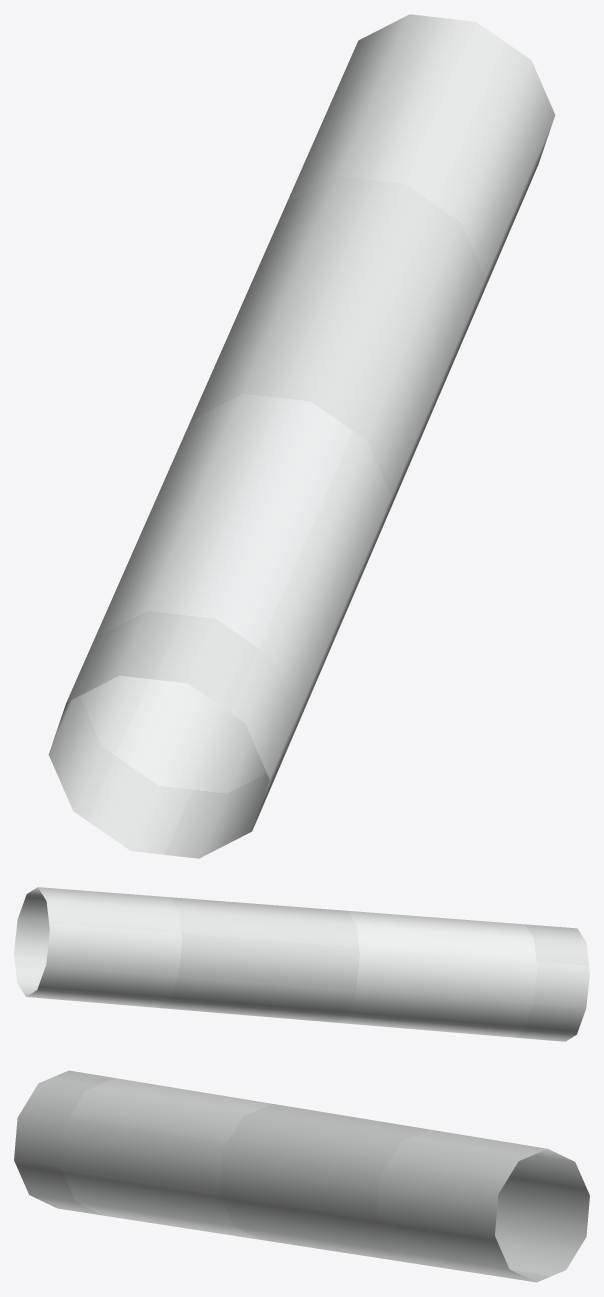
File: nycsignalarm_diagonal12_c14.obj
3 views of the same model, one above another, from view 1: azimuth 30°, elevation 25°; view 2: azimuth 150°, elevation 25°; view 3: azimuth 270°, elevation 25° (orthographic). The views are drawn at different scales.
Parts seen in each view (by area): view 1: nycsignalarm_diagonal12_c14; view 2: nycsignalarm_diagonal12_c14; view 3: nycsignalarm_diagonal12_c14.
Part boxes in pixels (bbox=[...]): nycsignalarm_diagonal12_c14: bbox=[48, 14, 555, 858]; nycsignalarm_diagonal12_c14: bbox=[14, 887, 589, 1041]; nycsignalarm_diagonal12_c14: bbox=[14, 1070, 589, 1282].
Bounding box in the file's own units: 1.2 × 0.5567 × 1.2.
